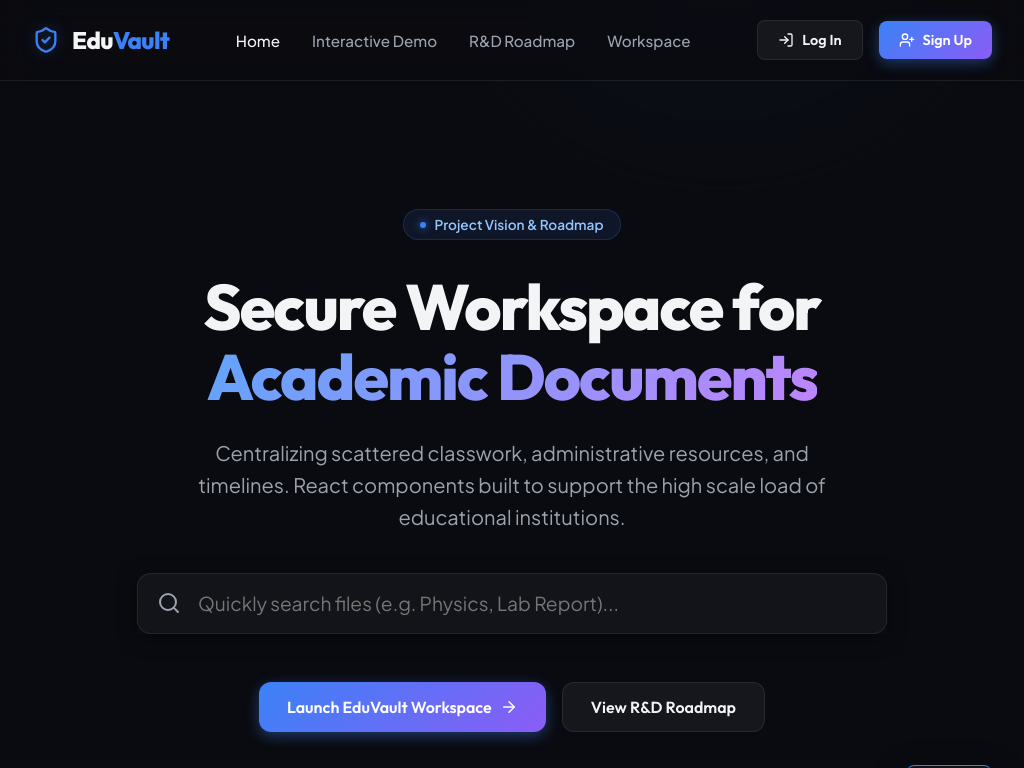
EduVault App Rendering & Navigation tests › should toggle view mode between grid and list in Drive workspace
Note: Navigate to Workspace
Click the link "Workspace" at [649, 40], box [607,30,691,50]
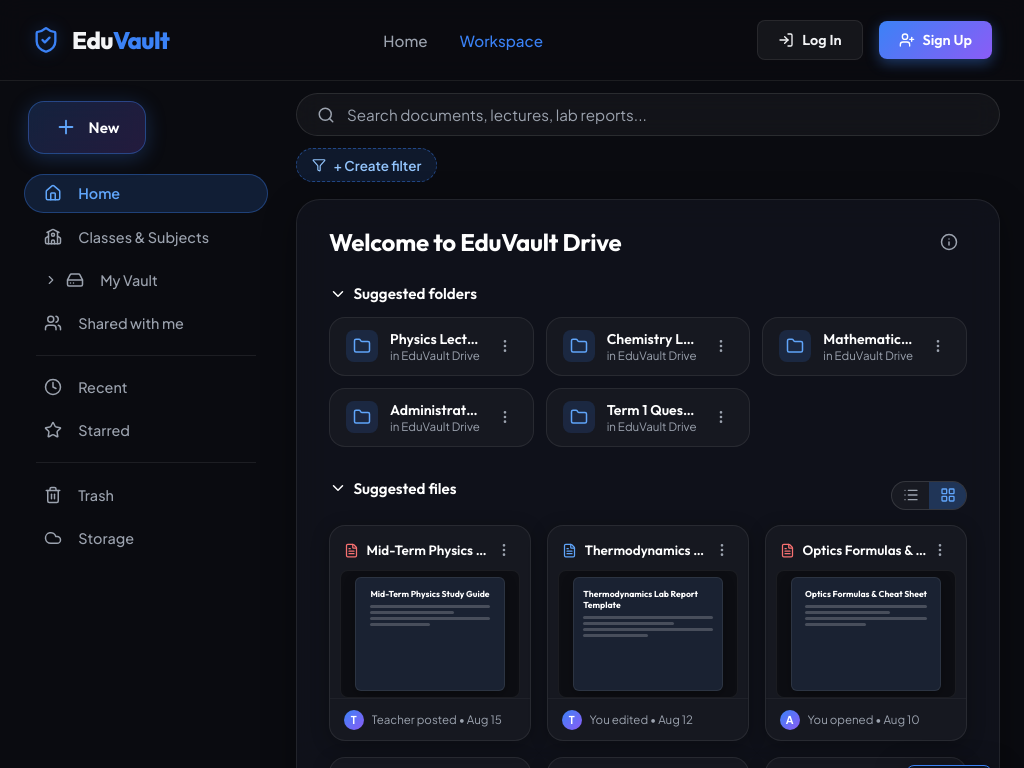
Note: Find List view button
Click the button titled "List view" at [911, 495], box [892,482,929,509]
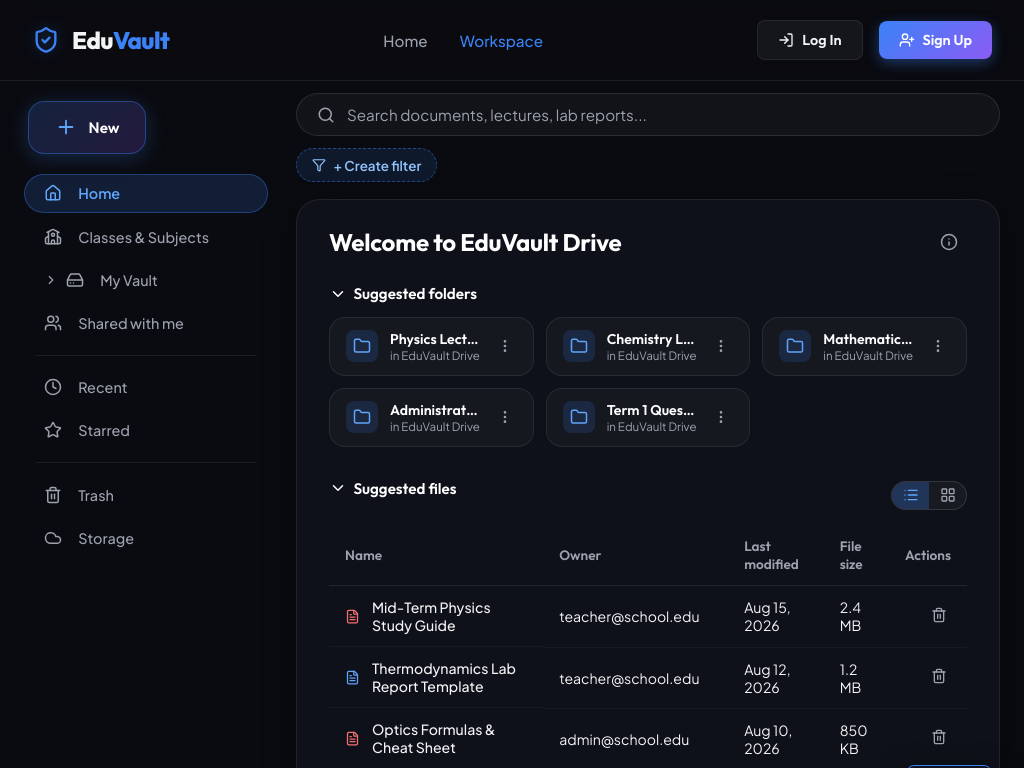
Check: the column heading "Last modified" is shown, box [728,525,824,586]
Check: the column heading "File size" is shown, box [824,525,889,586]
